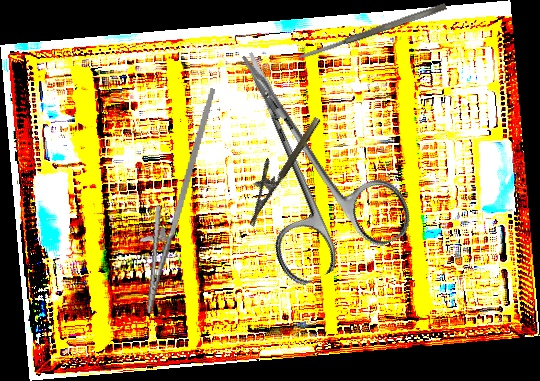Iris Scissors: (188, 20, 420, 291)
Needle Holder: (127, 80, 217, 319), (231, 107, 323, 227)
Spatula Surgical: (297, 2, 448, 61)
